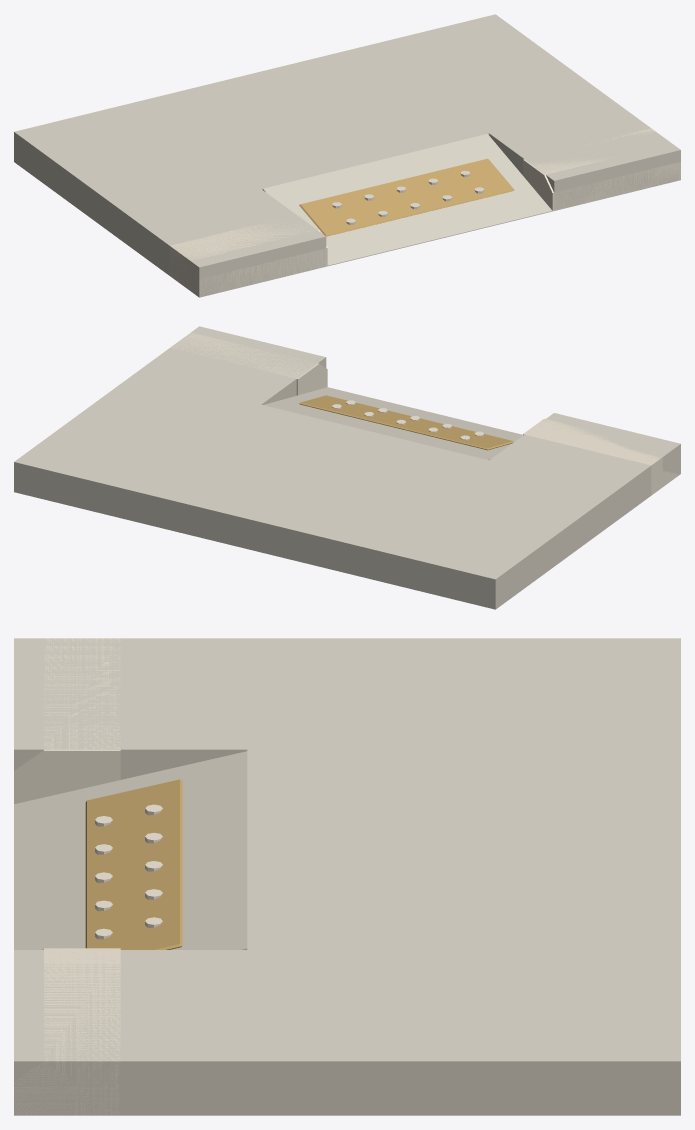
File: sidewalk_ramp.glb
3 renders of one model, top to bottom at view 1: azimuth 30°, elevation 25°; view 2: azimuth 150°, elevation 25°; view 3: azimuth 270°, elevation 25°, orthographic. The views are drawn at different scales.
Visible parts, largest first — view 1: ModelMesh; view 2: ModelMesh; view 3: ModelMesh.
Boxes of the visible parts, bbox=[...] form: ModelMesh: bbox=[14, 14, 680, 297]; ModelMesh: bbox=[14, 326, 680, 609]; ModelMesh: bbox=[14, 638, 680, 1115].
Bounding box in the file's own units: 3 × 0.18 × 2.
